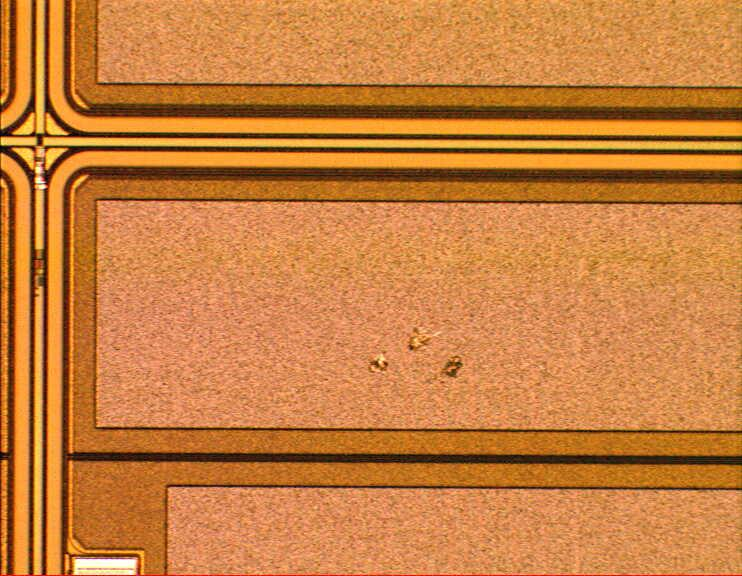SCRATCH: (362, 317, 476, 395)
